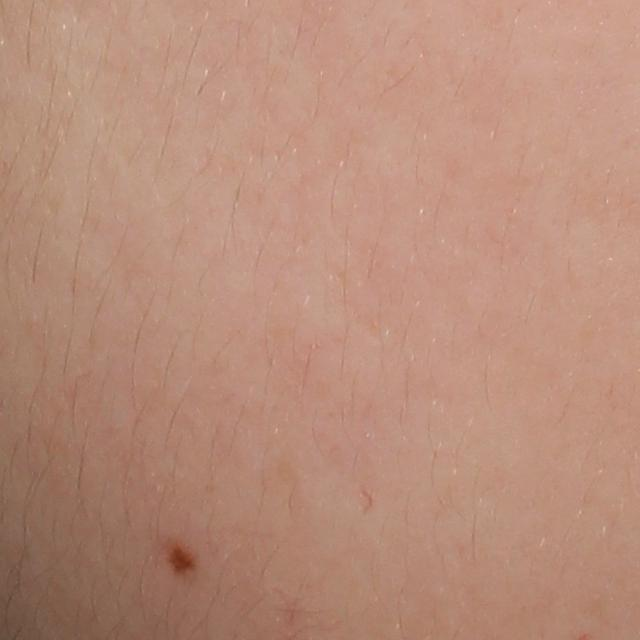nevus: (166, 535, 196, 580)
